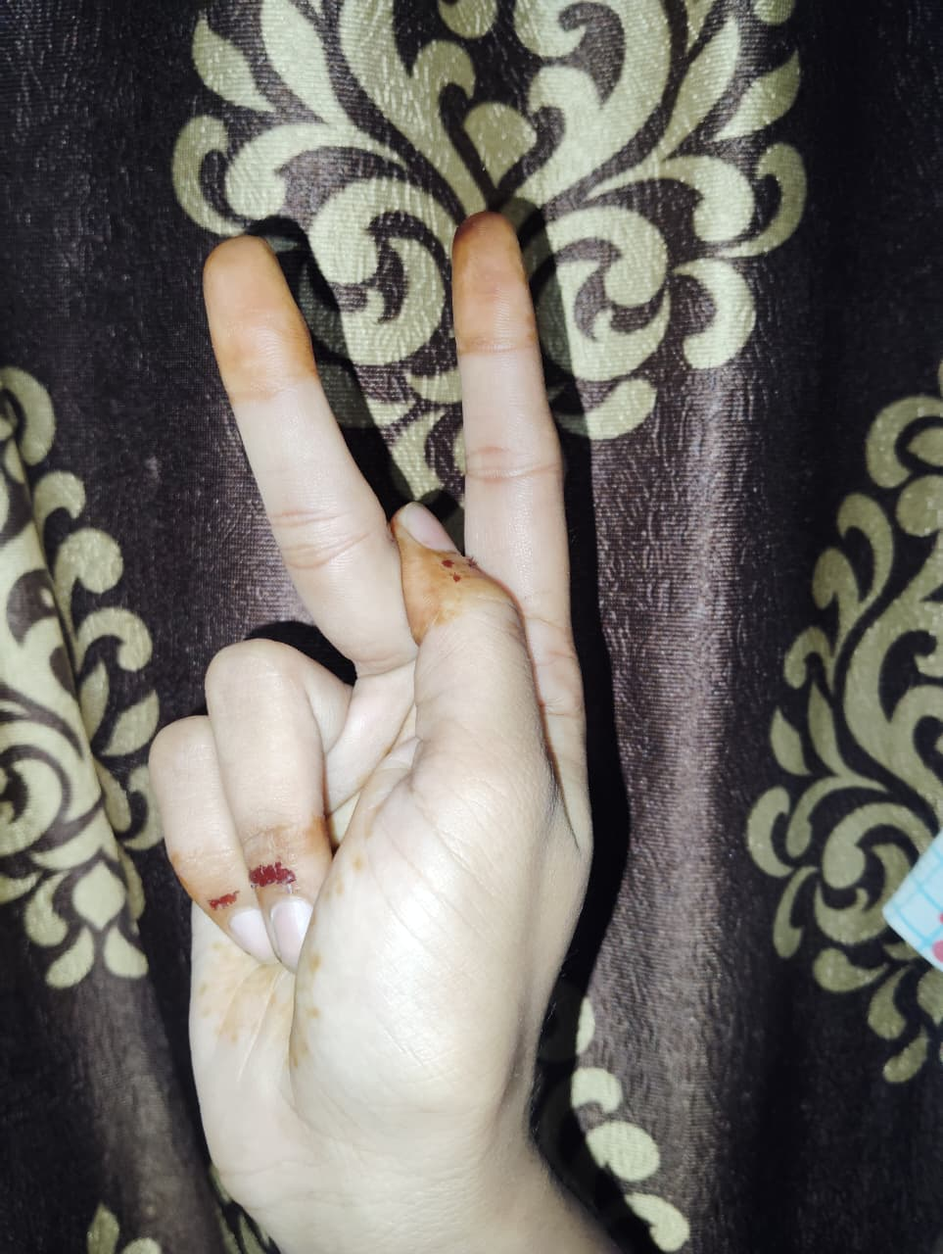K: (145, 216, 591, 1144)
